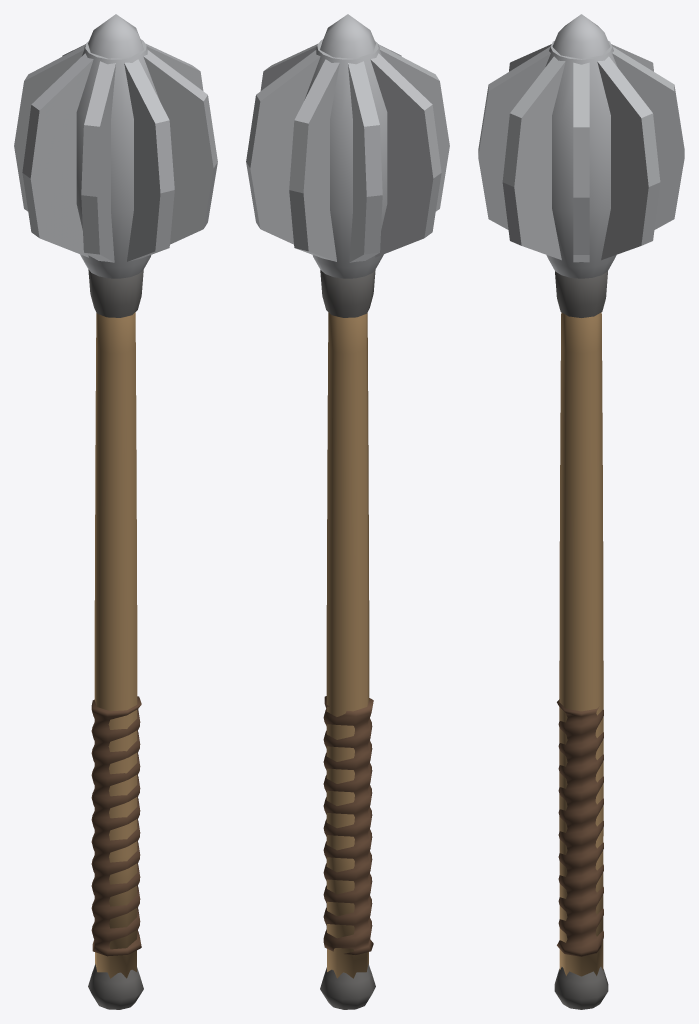
Rendered from heavy-mace.glb.
3 views of the same model, side by side, from view 1: azimuth 30°, elevation 25°; view 2: azimuth 150°, elevation 25°; view 3: azimuth 270°, elevation 25° (orthographic).
Parts seen in each view (by area): view 1: heavy-mace; view 2: heavy-mace; view 3: heavy-mace.
Boxes of the visible parts, <box> form: heavy-mace: <box>14,14,217,1009</box>; heavy-mace: <box>246,14,449,1009</box>; heavy-mace: <box>478,14,684,1009</box>.
Size of the model in its own units: 0.4 by 2.12 by 0.4.
